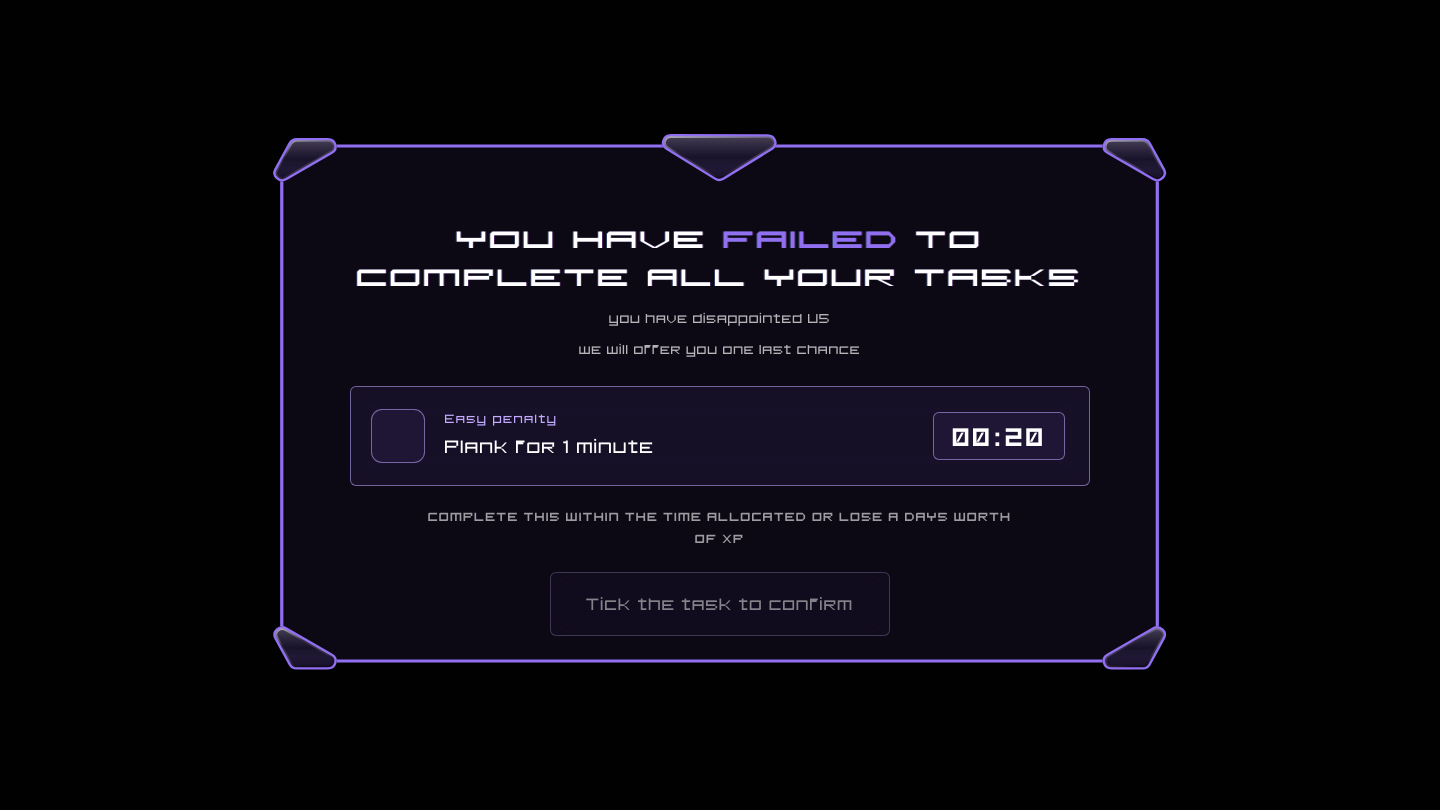
Scenario: PenaltyModal › unlocks confirm only once the unlock time has passed and the task is ticked
The image size is (1440, 810).
Later steps or results of the test are not shown.
Expected: the button "Tick the task to confirm" is disabled, [550,572,890,636]
Expected: the button "Tick the task to confirm" is shown, [550,572,890,636]
Click the button "Easy penalty Plank for 1 minute 0 0 : 2 0" at x=398, y=436, box [350,386,1090,486]
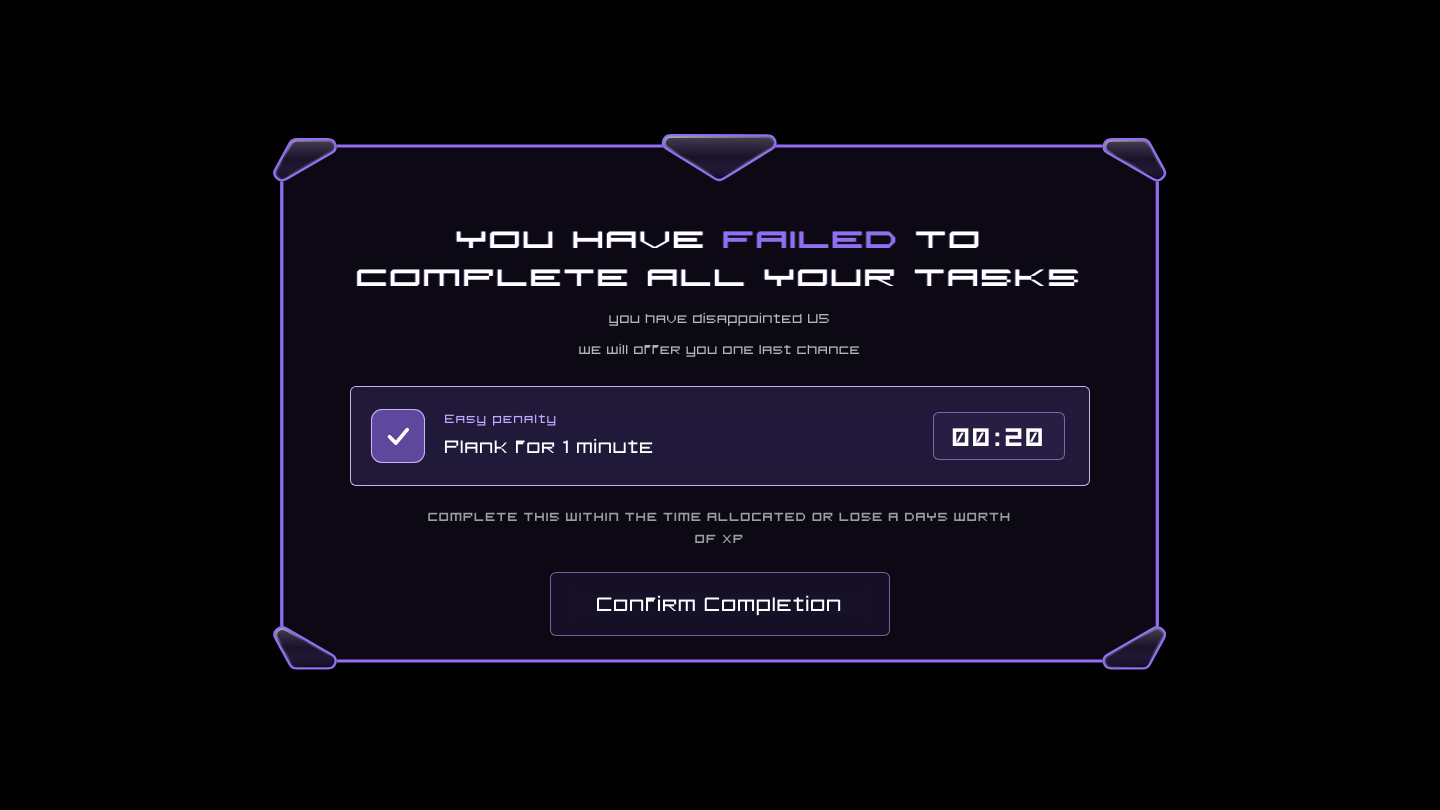
Result: the button "Confirm Completion" is enabled at [550,572,890,636]
